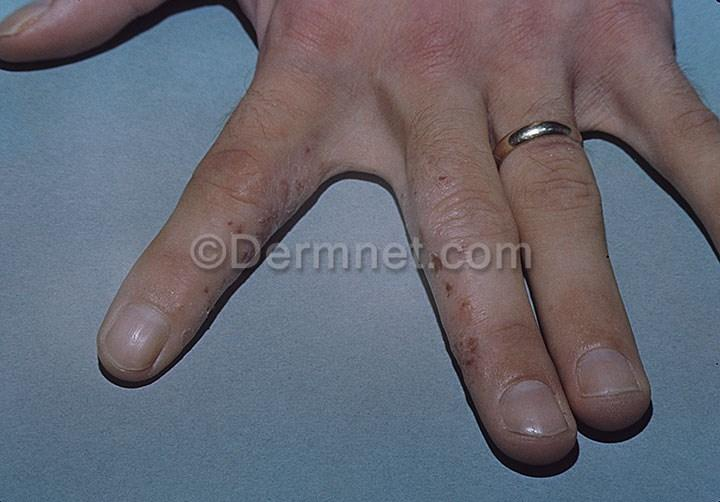Eczema: (434, 247, 492, 368), (226, 219, 250, 268), (274, 171, 299, 215)
